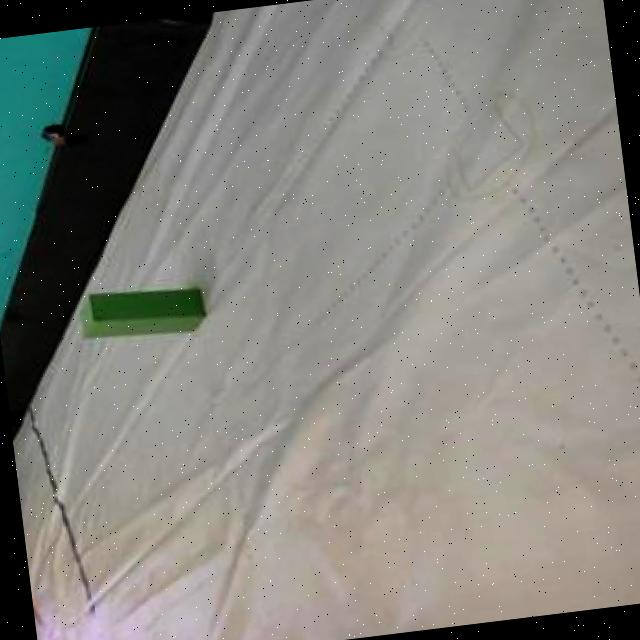greenbox: (73, 279, 206, 342)
